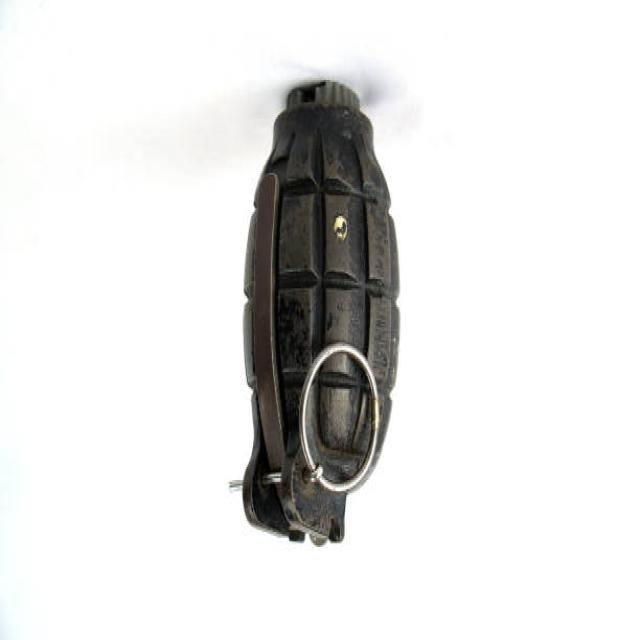grenade: (224, 69, 410, 557)
